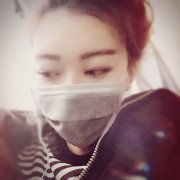face_mask: (29, 15, 125, 144)
